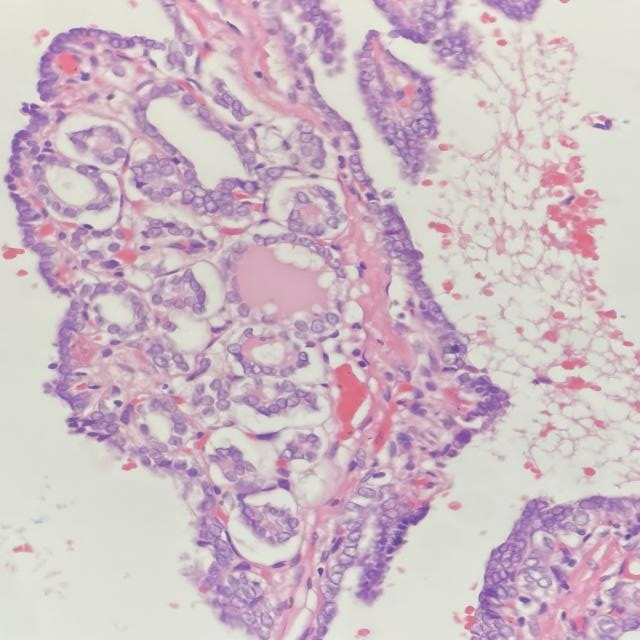TC: (427, 351, 477, 369), (235, 578, 266, 603), (99, 318, 127, 343), (349, 482, 382, 503), (139, 352, 172, 373), (197, 519, 230, 540), (319, 571, 356, 589), (191, 391, 221, 413), (260, 162, 292, 182), (58, 200, 84, 224), (339, 513, 370, 533), (285, 186, 312, 208), (176, 223, 203, 245), (323, 307, 349, 329), (321, 214, 351, 232), (404, 95, 428, 117), (276, 377, 305, 395), (163, 424, 197, 439), (216, 289, 244, 307), (292, 115, 318, 134), (156, 159, 174, 183), (111, 144, 134, 162), (228, 461, 252, 477), (189, 181, 210, 199), (223, 339, 243, 357)
